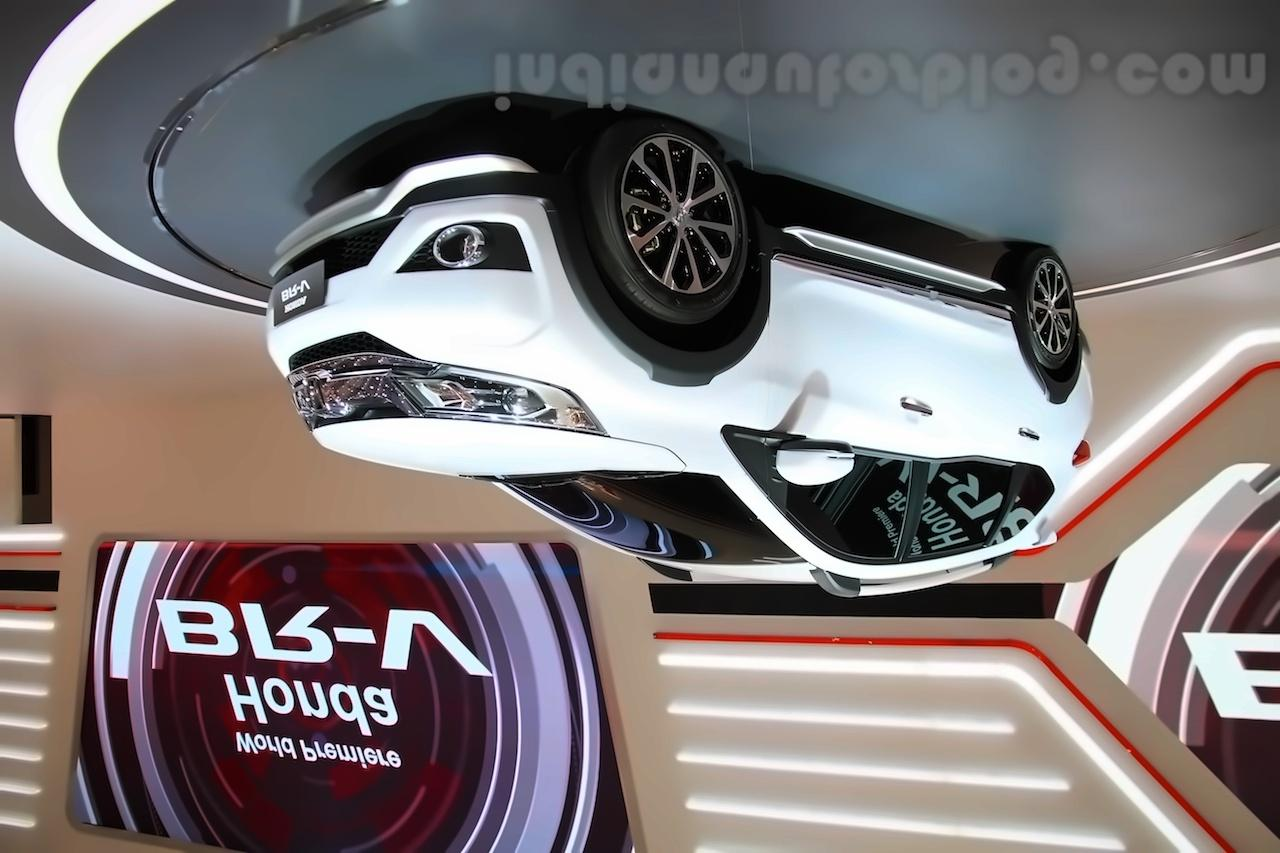Car hood: (306, 416, 687, 477)
Driver-s door - -F-R-: (774, 250, 936, 570)
Fender - -F-R-: (574, 247, 777, 476)
Fender - -R-R-: (1032, 346, 1088, 451)
Front bumper: (254, 149, 605, 361)
Headlight - -R-: (386, 357, 618, 442)
Passenger-s door - -R-R-: (913, 264, 1044, 570)
Rear light - -R-: (1063, 436, 1096, 479)
Side bumper - -R-: (740, 212, 1021, 325)
Side mirror - -R-: (757, 433, 860, 495)
